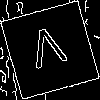V: (25, 25, 72, 79)
